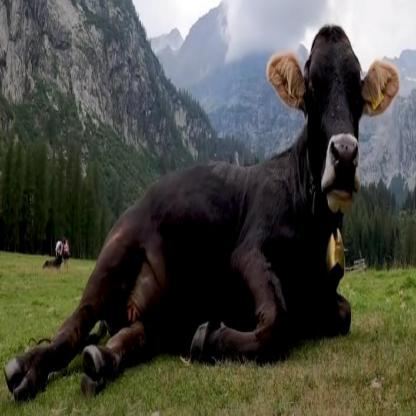cow: (3, 24, 400, 416)
